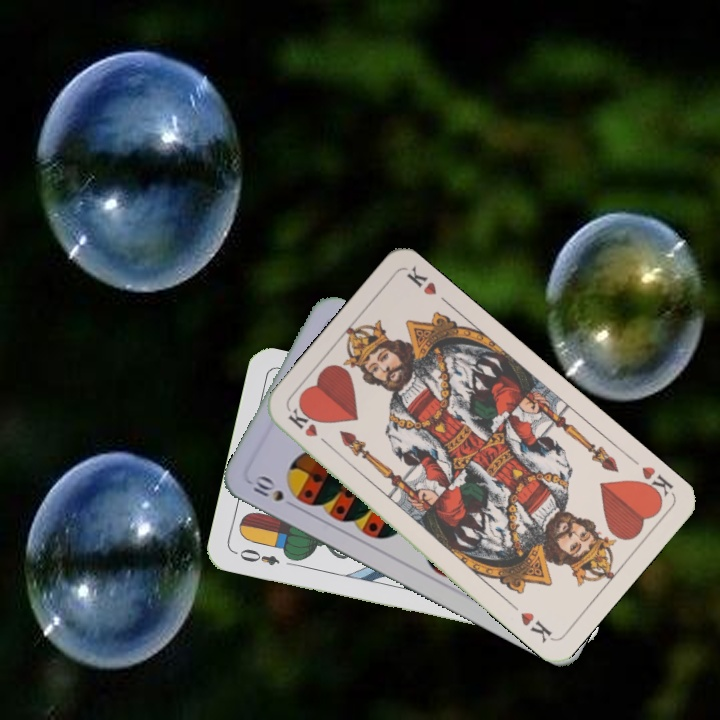EO: (235, 544, 282, 569)
HK: (284, 403, 335, 451), (632, 462, 676, 505)
S10: (249, 472, 287, 505)
